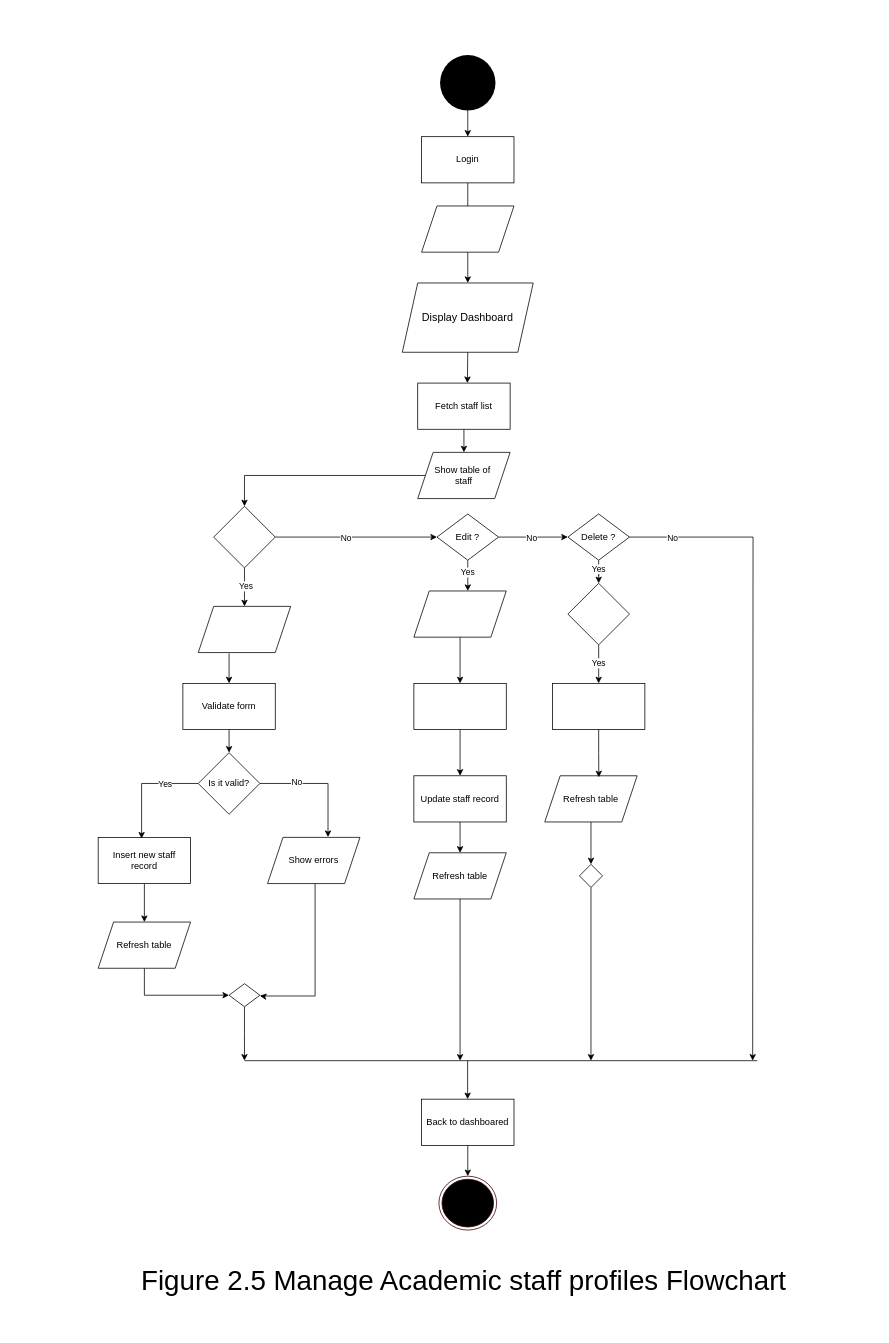
This 889x1343 diagram has some shape labels left out. The shapes that lost their labels are listed below. From the top down, each one's centre as x and y in pixels, then its label:
(x=467, y=228): Input Email& Pasword
(x=244, y=537): Add ?
(x=244, y=629): Open " Add staff " form
(x=459, y=613): Open " Edit staff " form
(x=598, y=614): Confirm delete?
(x=459, y=706): Validate change
(x=598, y=706): Remove staff record
